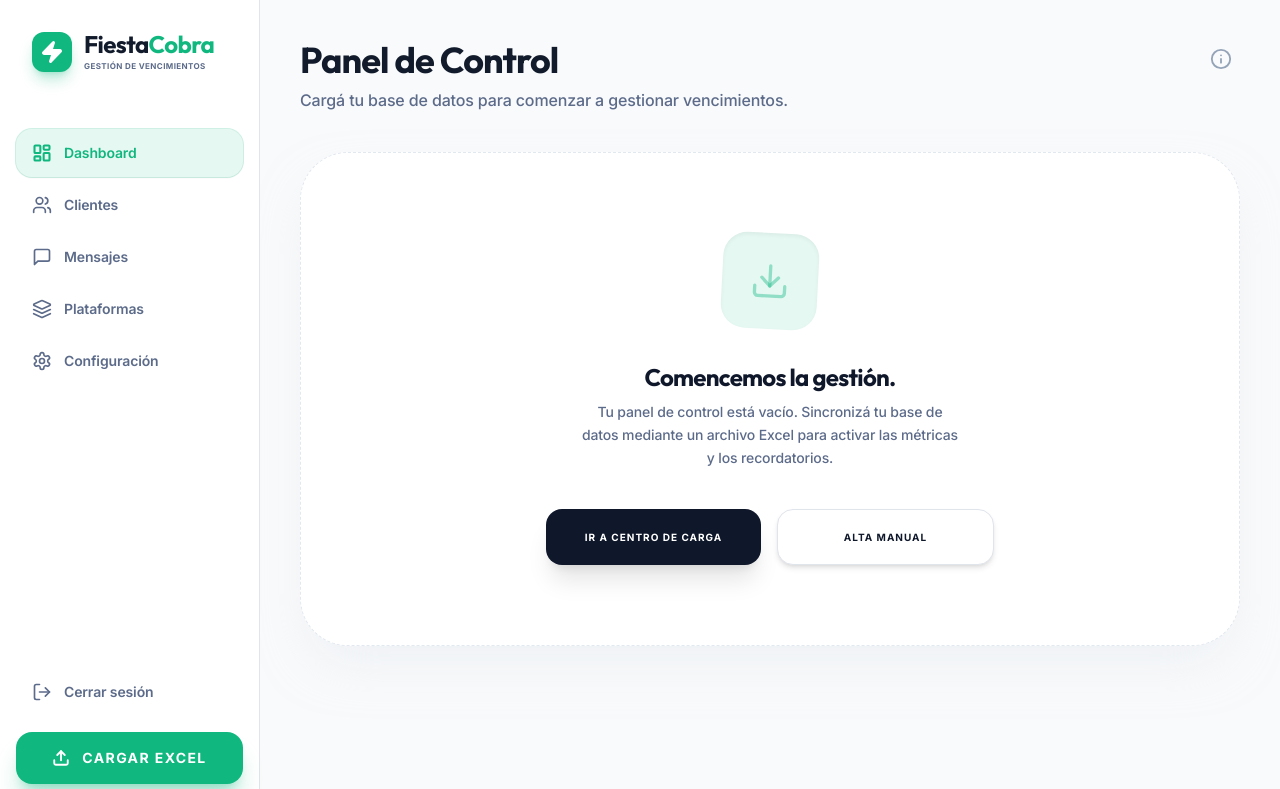
ayuda de cada pantalla › se cierra con Escape
Expected: the heading "Panel de Control" is shown, [300, 37, 558, 82]
Click the button named "Cómo funciona esta pantalla": (1221,59) [1202, 40, 1240, 78]
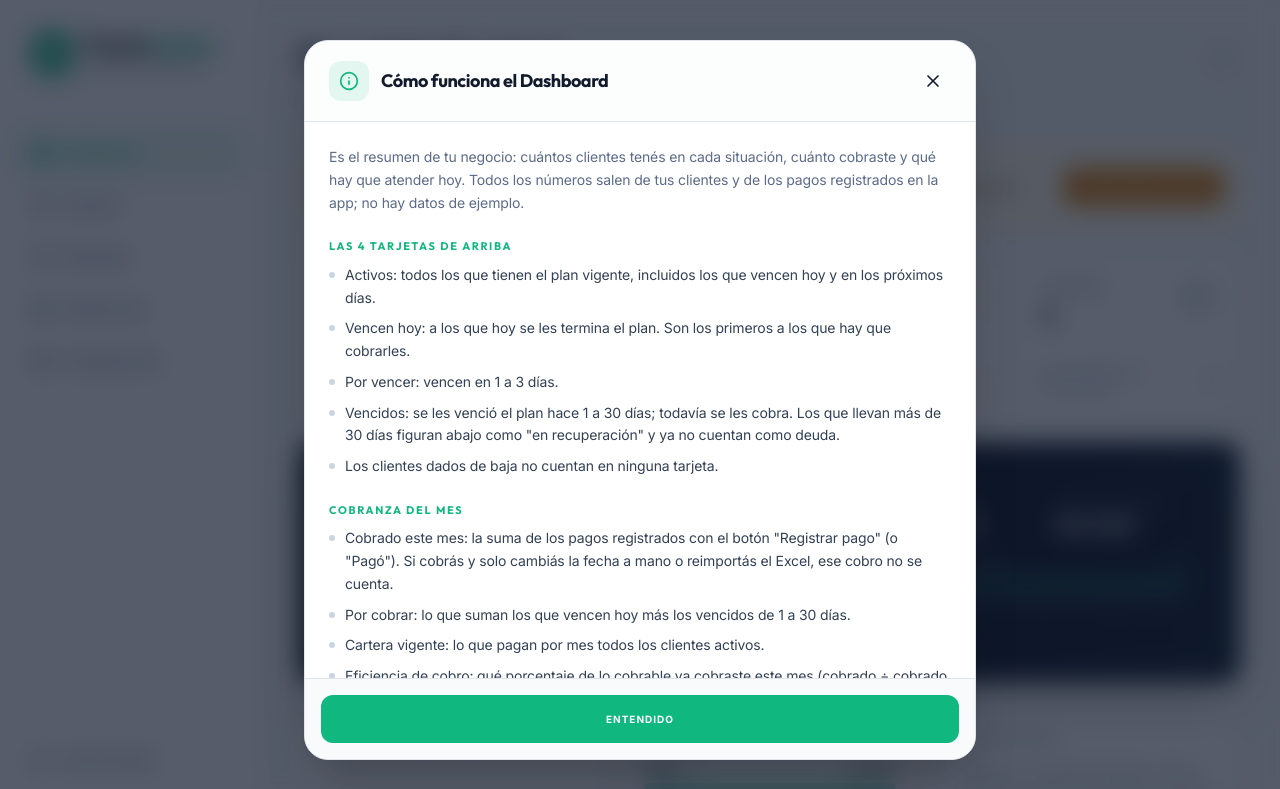
Expected: the dialog "Cómo funciona el Dashboard" is shown, [304, 40, 976, 760]
Press Escape
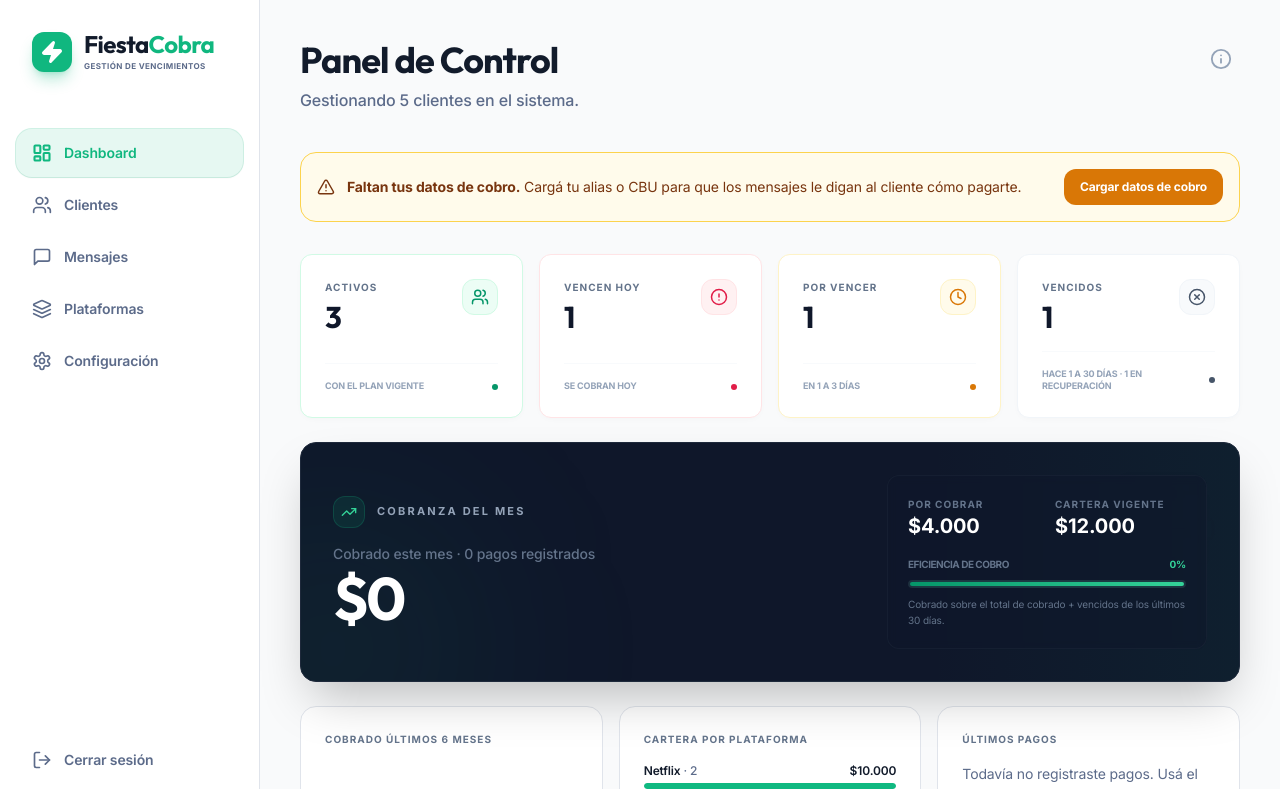
Expected: the heading "Cómo funciona el Dashboard" is gone
